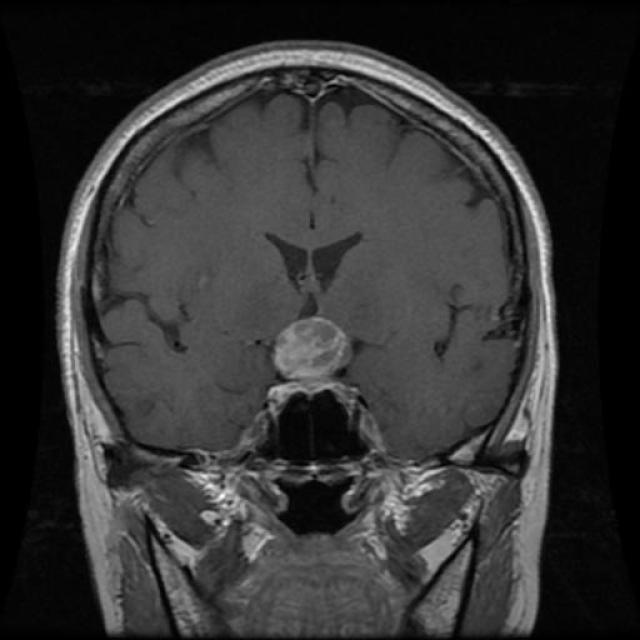pituitary: (270, 307, 362, 389)
